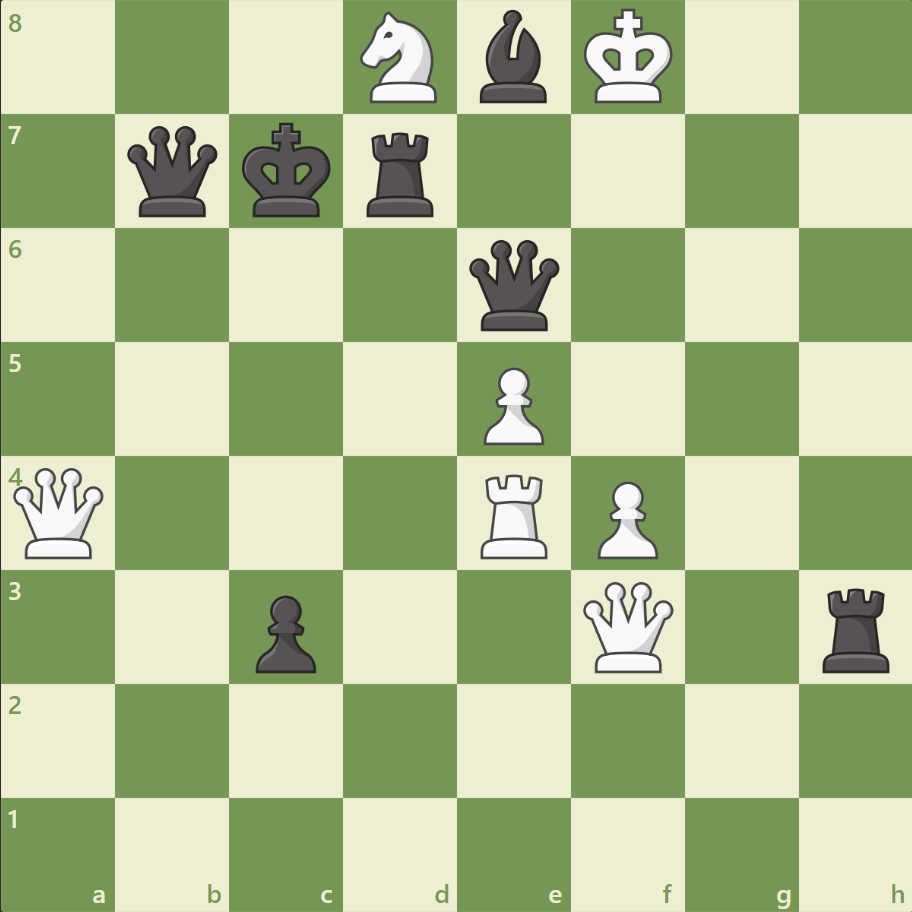K: (579, 4, 679, 112)
N: (351, 7, 449, 110)
P: (474, 359, 549, 450), (588, 473, 662, 564)
Q: (578, 576, 677, 676), (10, 463, 109, 562)
R: (473, 466, 556, 563)
b: (471, 6, 555, 109)
k: (238, 117, 338, 225)
p: (247, 586, 322, 677)
q: (124, 122, 223, 222), (464, 236, 563, 335)
r: (814, 579, 897, 676), (360, 125, 442, 222)
